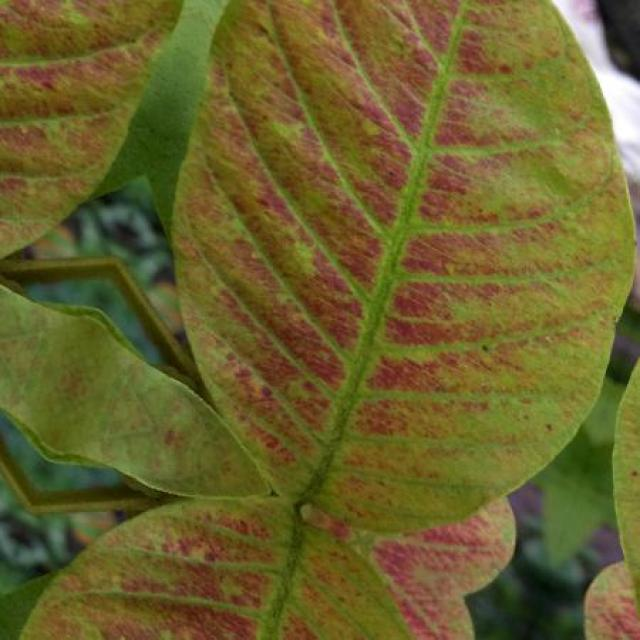Red Rust: (0, 0, 631, 639)
